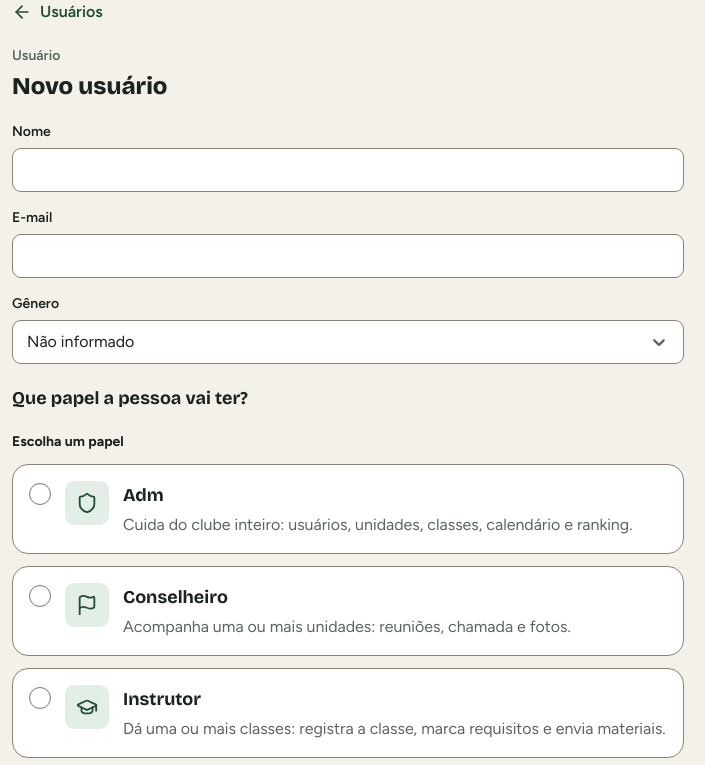
it: novo usuário: convidar numa tela só › trocar o papel limpa a busca e o escopo do outro
Click the radio button labelled "Conselheiro" at (40, 596), box [29,585,51,607]
(page scrolled)
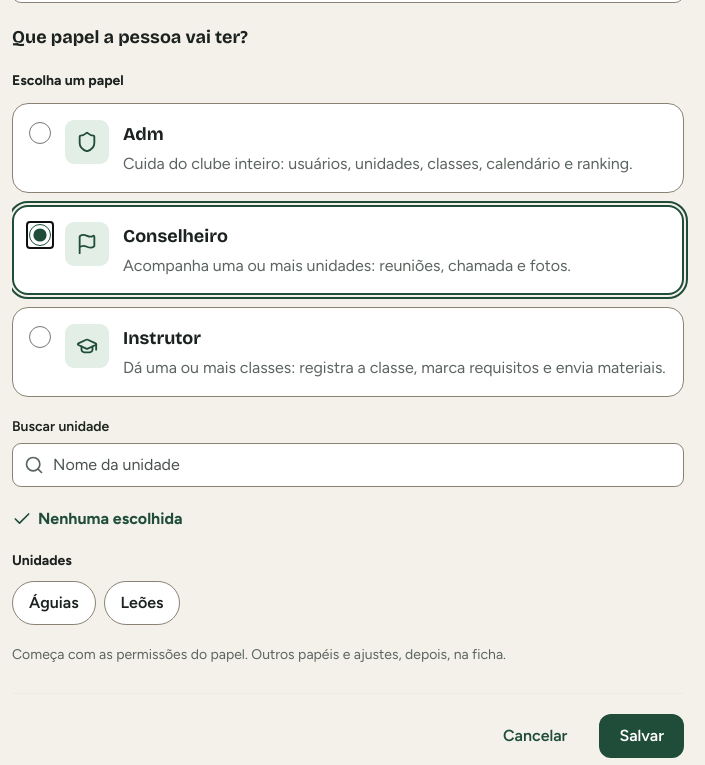
Type "zzz" into the search field labelled "Buscar unidade" at (348, 465), box [12,443,684,487]
(page scrolled)
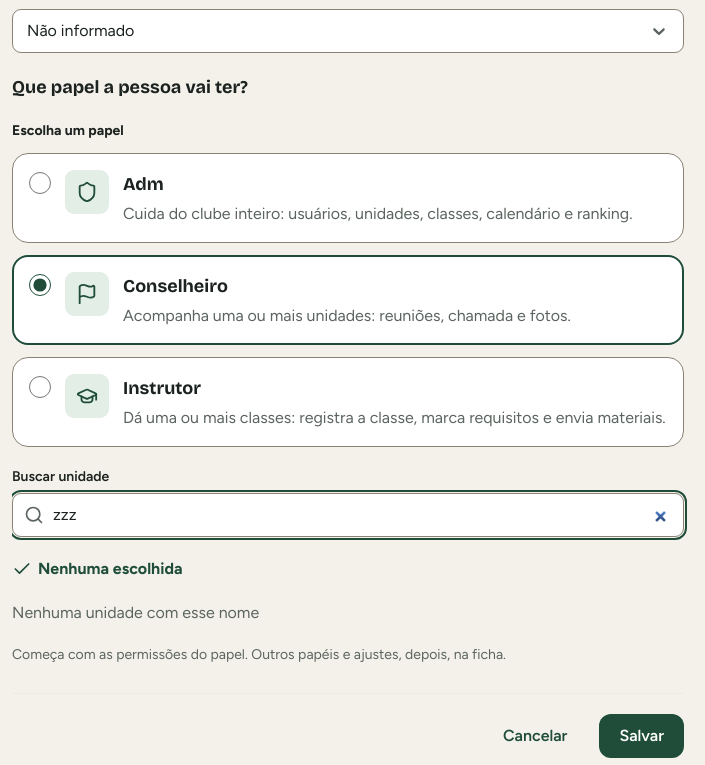
Result: the text "Nenhuma unidade com esse nome" is shown at [12,603,259,622]
Click the radio button labelled "Instrutor" at (40, 387), box [29,376,51,398]
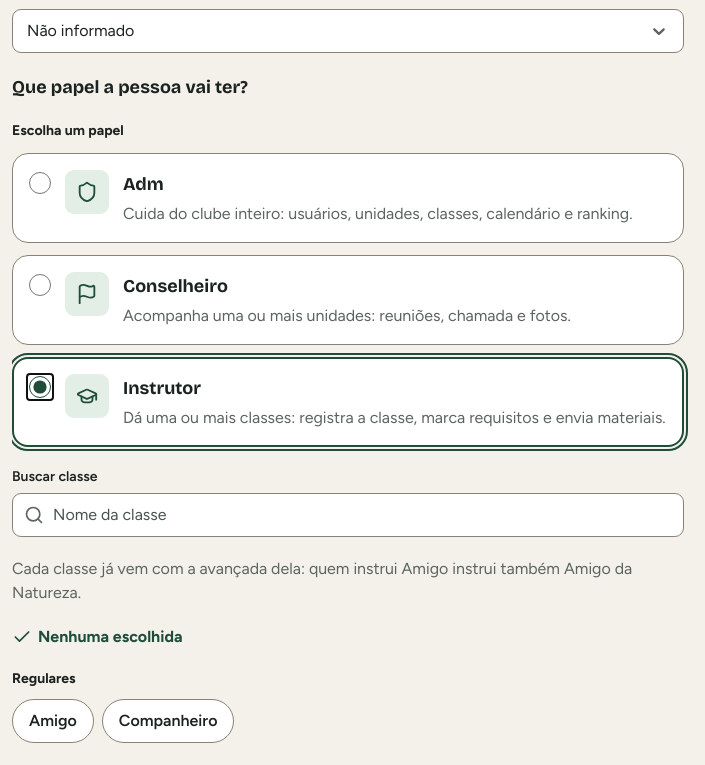
Result: the search field labelled "Buscar classe" is empty at [12,493,684,537]
Result: the button "Amigo" is shown at [12,699,94,743]
